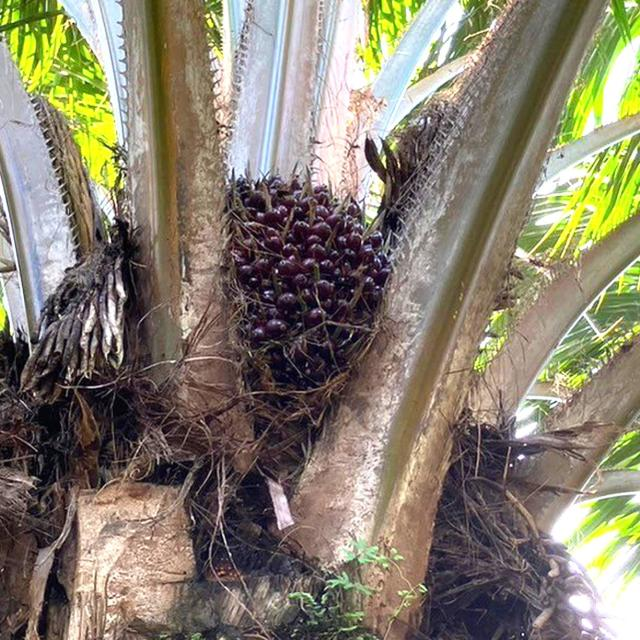ripe: (228, 176, 388, 382)
